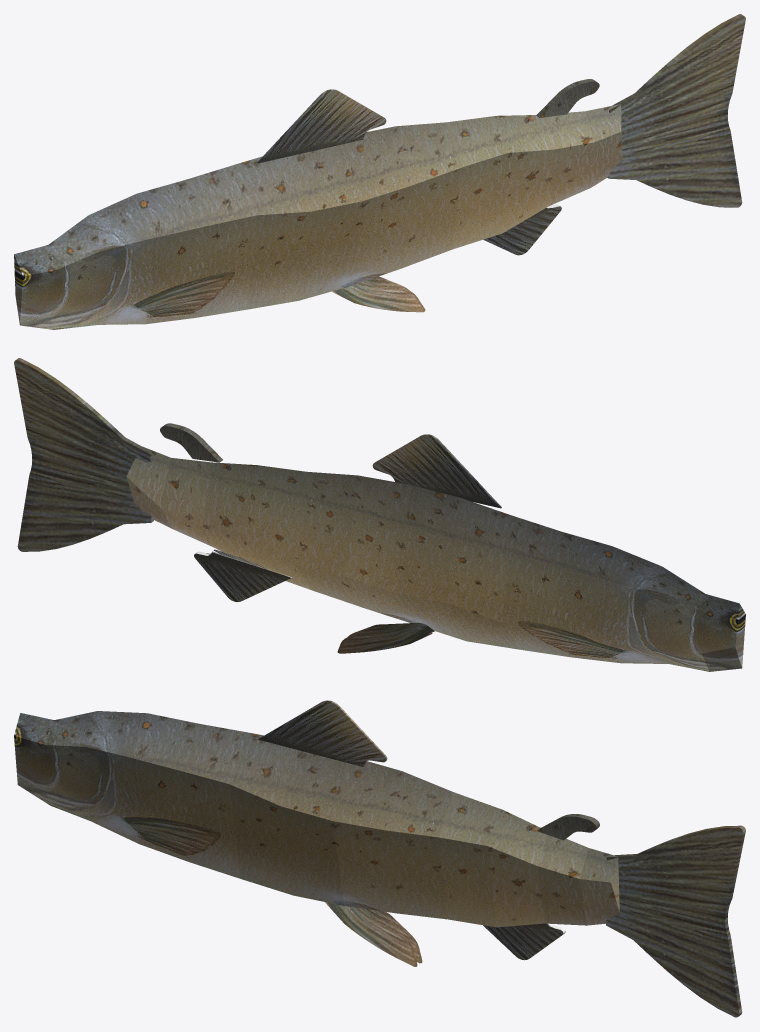
File: Atlantic salmon.fbx
3 renders of one model, top to bottom at view 1: azimuth 30°, elevation 25°; view 2: azimuth 150°, elevation 25°; view 3: azimuth 330°, elevation 25°, orthographic.
Parts seen in each view (by area): view 1: Line008, Line002, Line005, Line012, Line009, Line003; view 2: Line008, Line002, Line005, Line009, Line013, Line003; view 3: Line008, Line002, Line005, Line012, Line009, Line003.
Boxes of the visible parts, x1,y1,x2,y2 form: Line008: (14, 104, 622, 329); Line002: (607, 14, 745, 207); Line005: (257, 89, 386, 163); Line012: (331, 279, 425, 312); Line009: (483, 204, 561, 255); Line003: (536, 79, 599, 117); Line008: (126, 446, 745, 671); Line002: (14, 358, 153, 551); Line005: (372, 434, 501, 508); Line009: (194, 549, 291, 601); Line013: (337, 626, 432, 653); Line003: (160, 423, 222, 462); Line008: (14, 711, 619, 927); Line002: (606, 825, 745, 1017); Line005: (258, 700, 387, 766); Line012: (325, 902, 417, 966); Line009: (483, 923, 565, 960); Line003: (537, 814, 599, 840).
Bounding box in the file's own units: 910 × 287 × 66.54.
2 materials, 2 textured.
